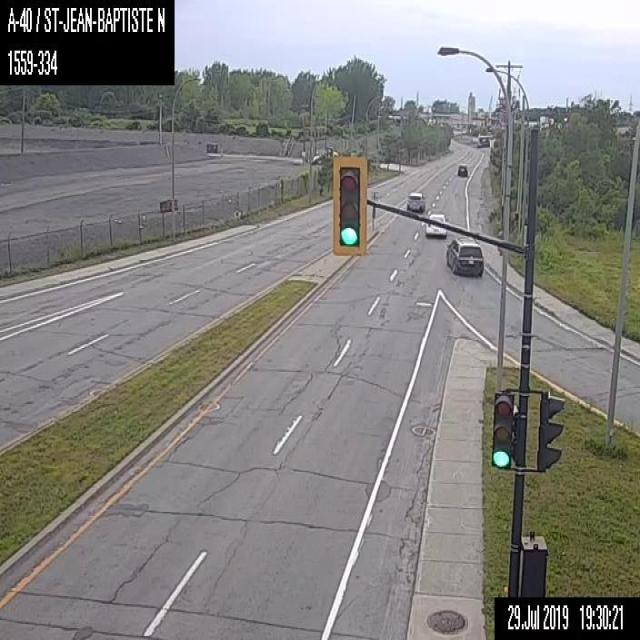vehicle: (446, 238, 484, 278), (425, 211, 446, 235), (406, 190, 425, 212), (457, 163, 467, 176)
